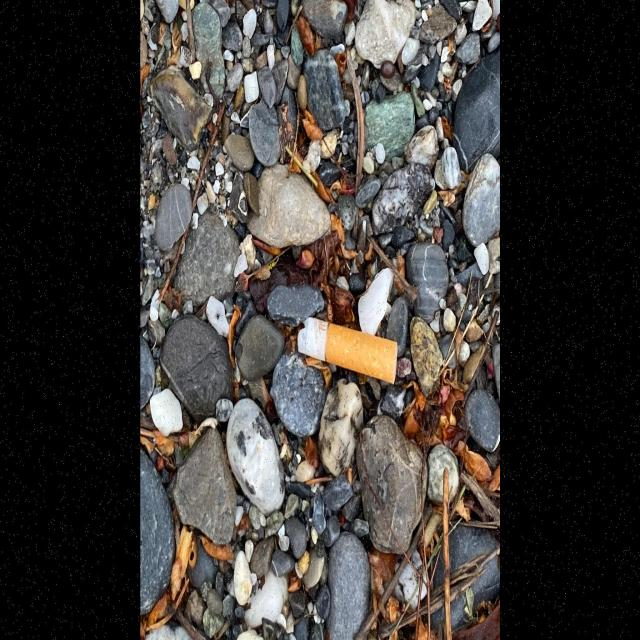other waste: (296, 314, 400, 385)
